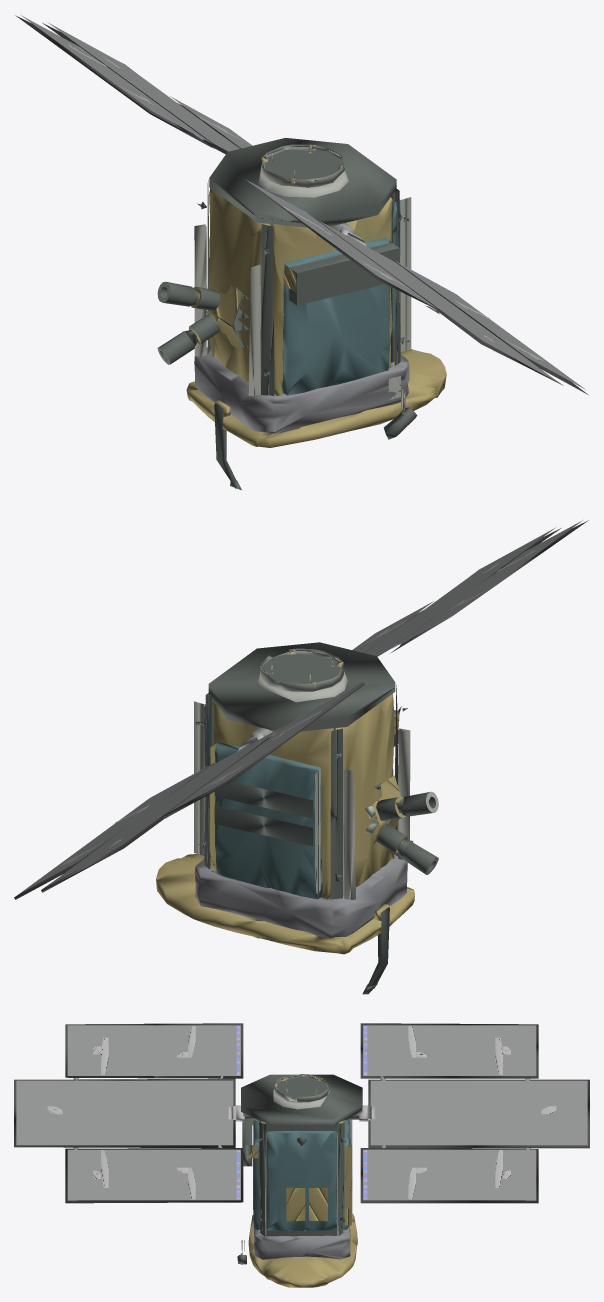
File: cloudsat-a.glb
3 views of the same model, one above another, from view 1: azimuth 30°, elevation 25°; view 2: azimuth 150°, elevation 25°; view 3: azimuth 270°, elevation 25° (orthographic). The views are drawn at different scales.
Parts seen in each view (by area): view 1: Cloudsat_Unity_v002 [Layer10]; view 2: Cloudsat_Unity_v002 [Layer10]; view 3: Cloudsat_Unity_v002 [Layer10].
Boxes of the visible parts, x1=… form: Cloudsat_Unity_v002 [Layer10]: x1=15, y1=15, x2=588, y2=490; Cloudsat_Unity_v002 [Layer10]: x1=14, y1=520, x2=588, y2=994; Cloudsat_Unity_v002 [Layer10]: x1=14, y1=1023, x2=589, y2=1287.
Size of the model in its own units: 62.21 by 76.48 by 172.
1 material, 1 textured.
